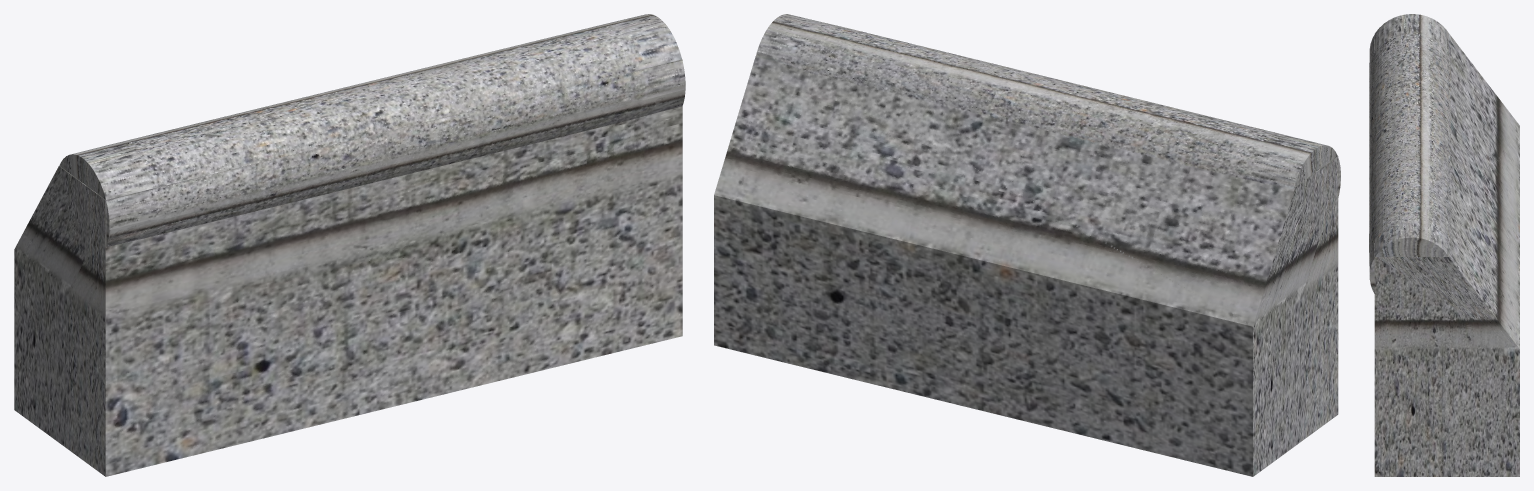
The model's file is border.fbx.
The picture shows the model from 3 angles, left to right: view 1: azimuth 30°, elevation 25°; view 2: azimuth 150°, elevation 25°; view 3: azimuth 270°, elevation 25°; orthographic projection. The views are drawn at different scales.
Parts seen in each view (by area): view 1: Cube; view 2: Cube; view 3: Cube.
Part boxes in pixels (box(x1,y1,x2,y2)): Cube: box(14, 14, 685, 476); Cube: box(714, 14, 1340, 476); Cube: box(1369, 14, 1519, 476).
Size of the model in its own units: 724 by 362 by 206.
